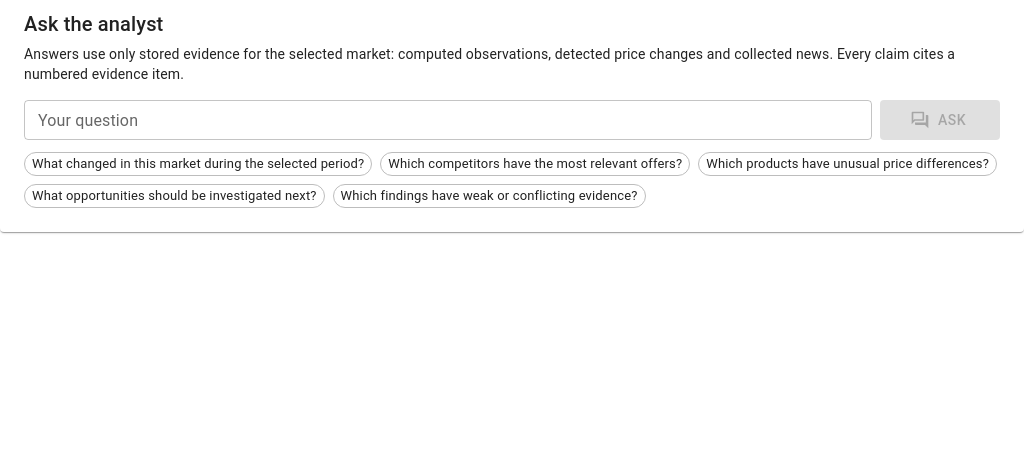
AskAnalyst › explains a withheld answer
Click the button "What changed in this market during the selected period?": {"x": 198, "y": 164} [24,152,372,176]
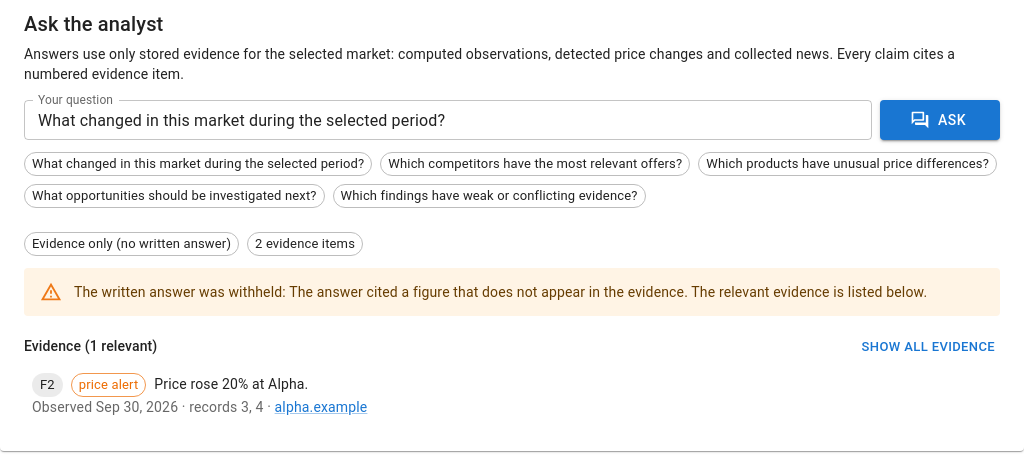
Expected: the text "written answer was withheld" is shown, [74,284,289,300]
